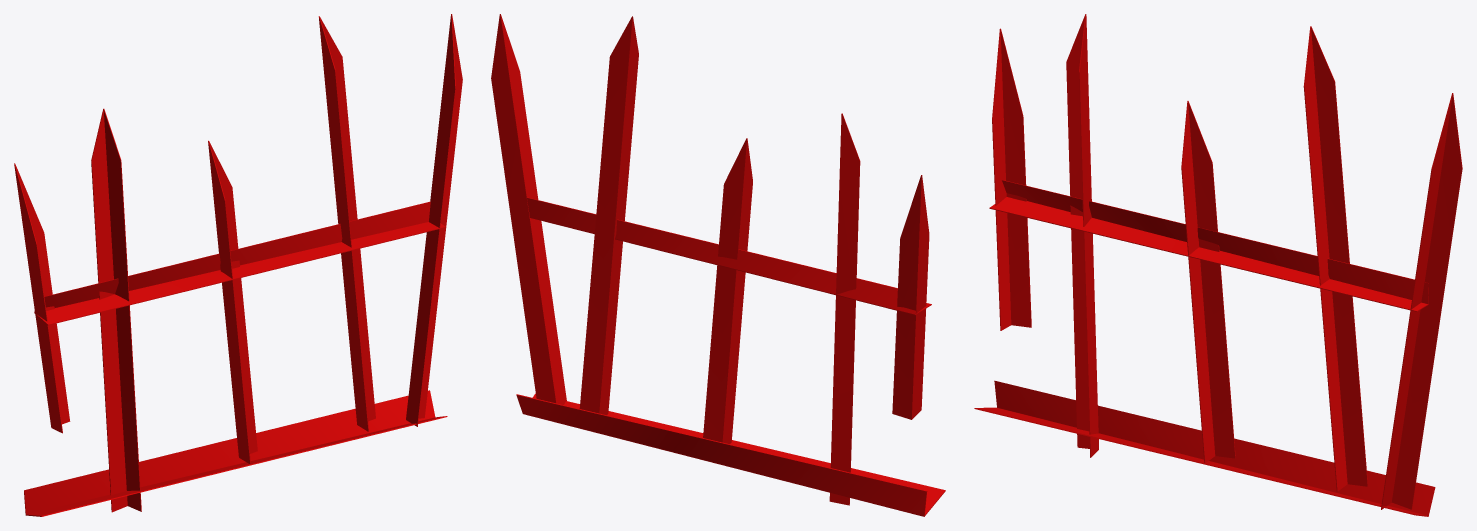
The model's file is Stake_Metal_Grp_02_Lod0.fbx.
The picture shows the model from 3 angles, left to right: view 1: azimuth 30°, elevation 25°; view 2: azimuth 150°, elevation 25°; view 3: azimuth 330°, elevation 25°; orthographic projection. The views are drawn at different scales.
Visible parts, largest first — view 1: Stake_Metal_Grp_02_Lod0; view 2: Stake_Metal_Grp_02_Lod0; view 3: Stake_Metal_Grp_02_Lod0.
Part boxes in pixels (x1,y1,x2,y2): Stake_Metal_Grp_02_Lod0: (14, 14, 462, 516); Stake_Metal_Grp_02_Lod0: (491, 14, 945, 516); Stake_Metal_Grp_02_Lod0: (974, 14, 1462, 516).
Bounding box in the file's own units: 201 × 193 × 20.57.
